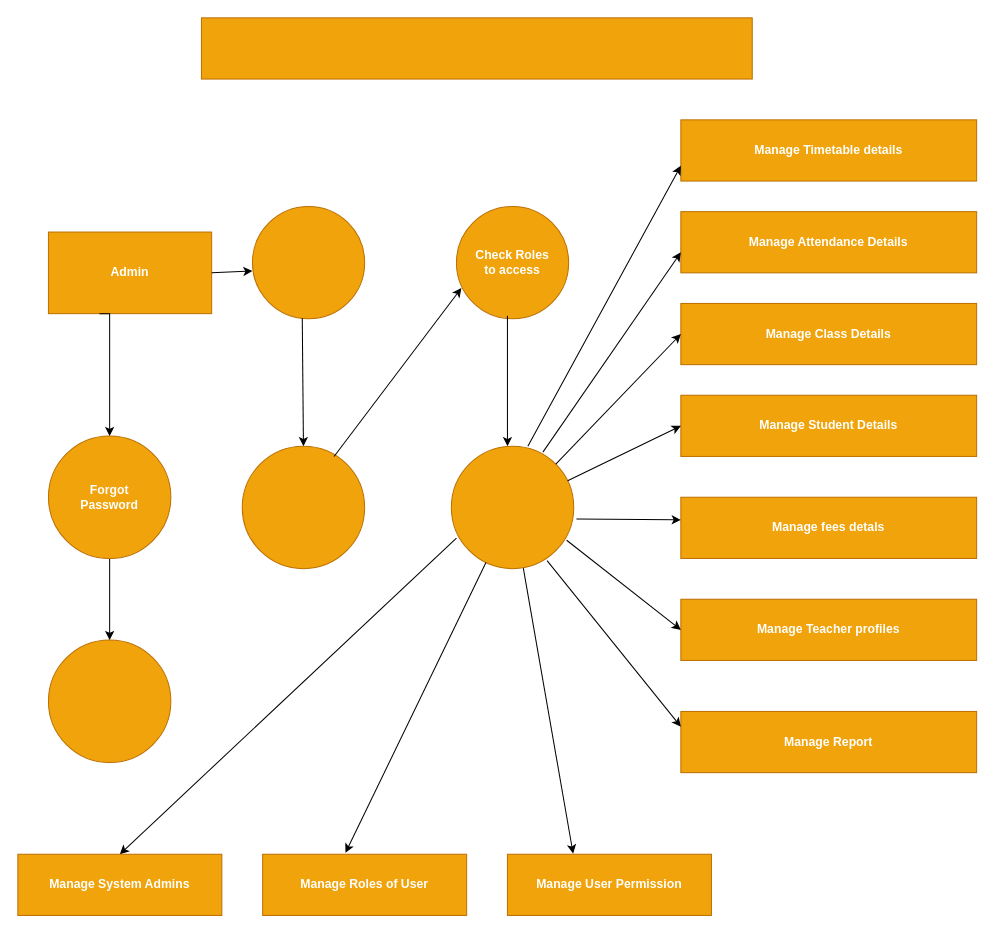
Some shapes in this 995 by 933 pixel diagram are drawn without their labels. Each missing label, with the box of its shape:
Check Credentials: (241, 445, 365, 569)
Login to System: (251, 206, 365, 319)
Manage modules: (450, 445, 574, 569)
Send Email to User: (47, 639, 171, 762)
Student Information System: (200, 17, 752, 79)
